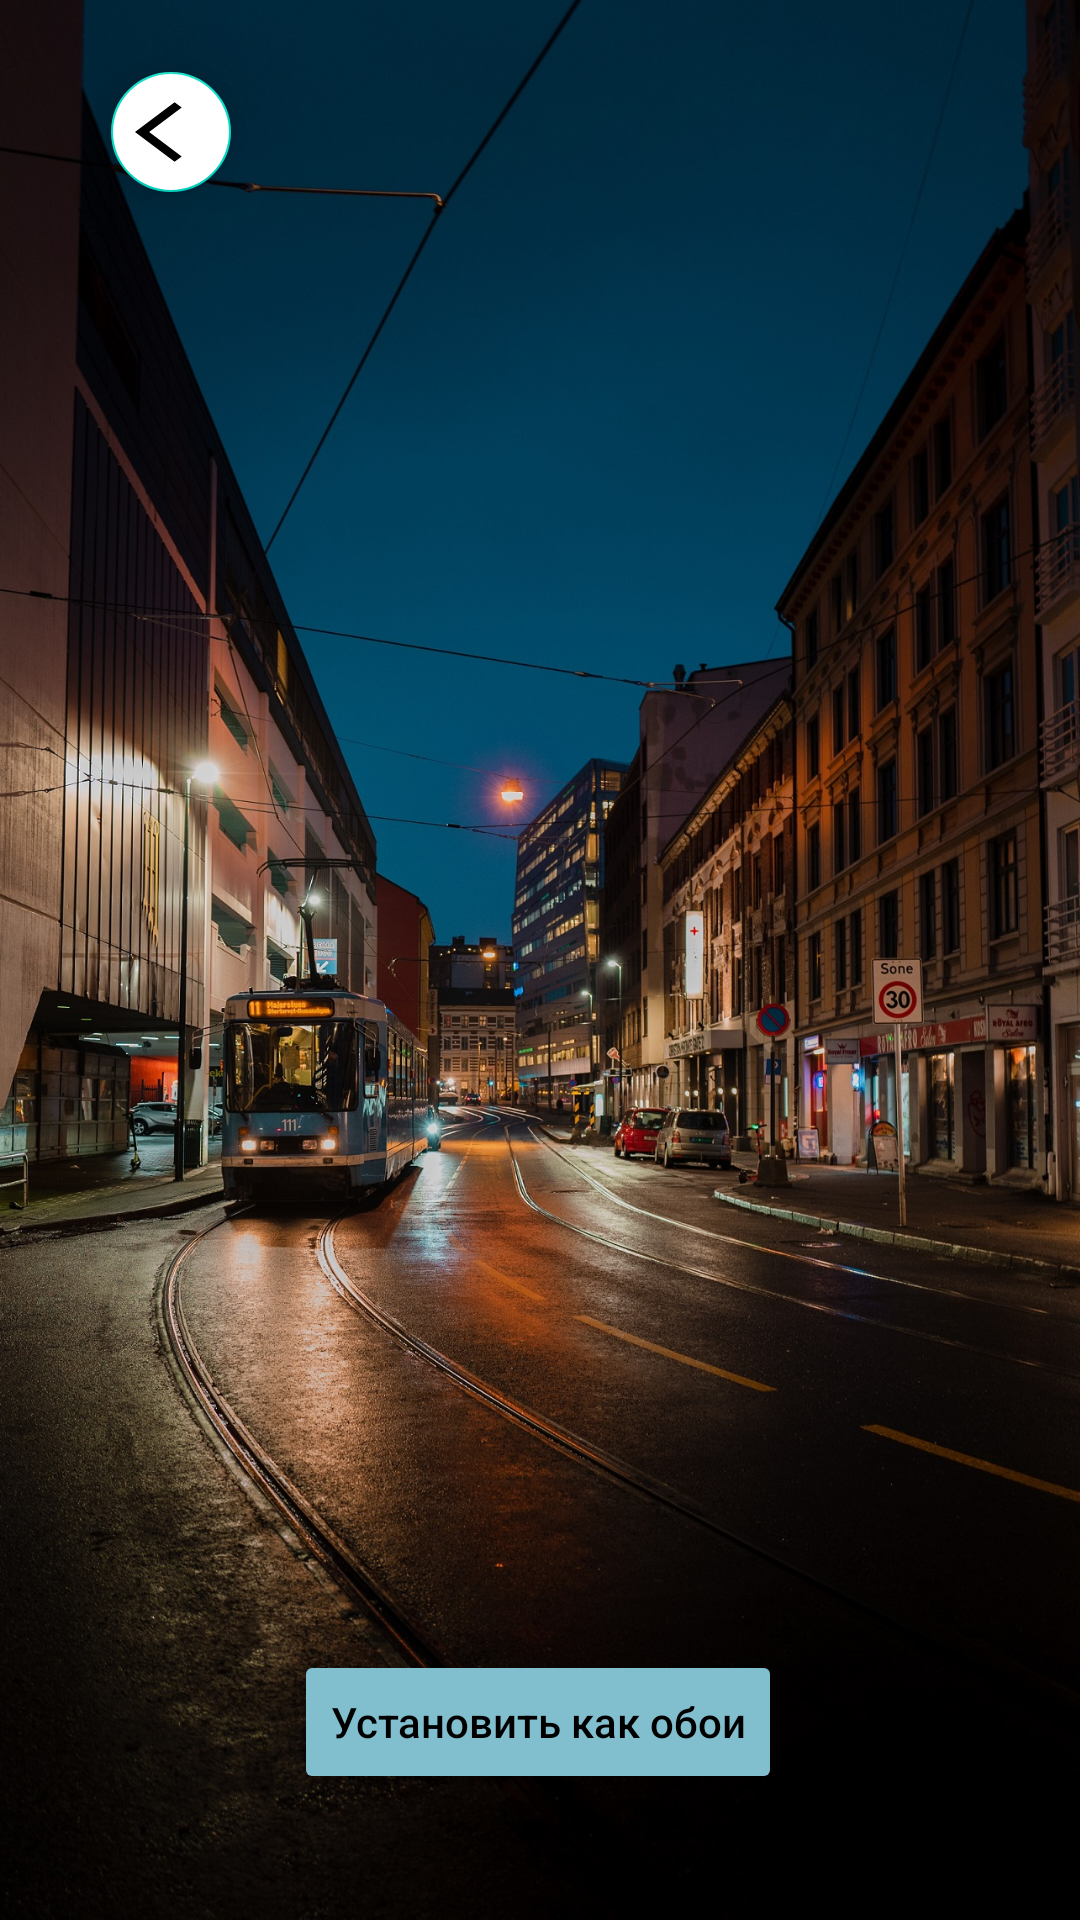

Named icons in this screenshot (1080×1920) and their bounding boxes, [x1, y1, x2, y2]:
arrow back: [99, 72, 243, 204]
